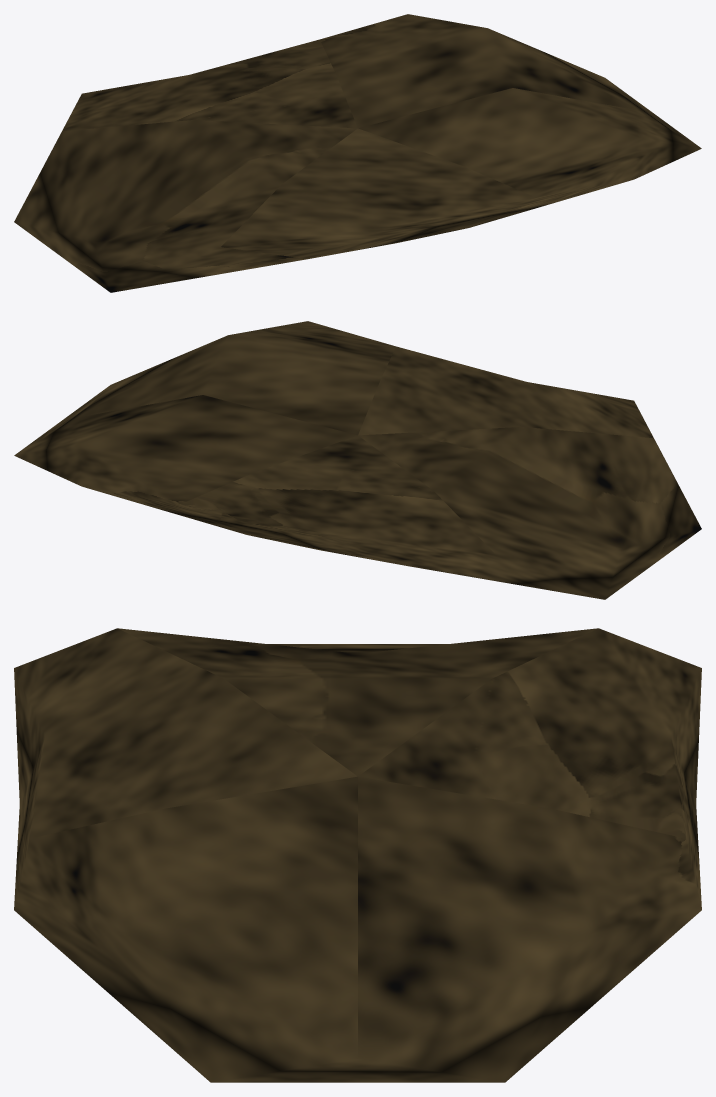
Rendered from dome2.fbx.
3 renders of one model, top to bottom at view 1: azimuth 30°, elevation 25°; view 2: azimuth 150°, elevation 25°; view 3: azimuth 270°, elevation 25°, orthographic. The views are drawn at different scales.
Visible parts, largest first — view 1: Icosphere.001; view 2: Icosphere.001; view 3: Icosphere.001.
Part boxes in pixels (<box>): Icosphere.001: <box>14,14,701,292</box>; Icosphere.001: <box>14,321,701,599</box>; Icosphere.001: <box>14,628,701,1082</box>.
Bounding box in the file's own units: 6197 × 714 × 4106.
1 material, 1 textured.
